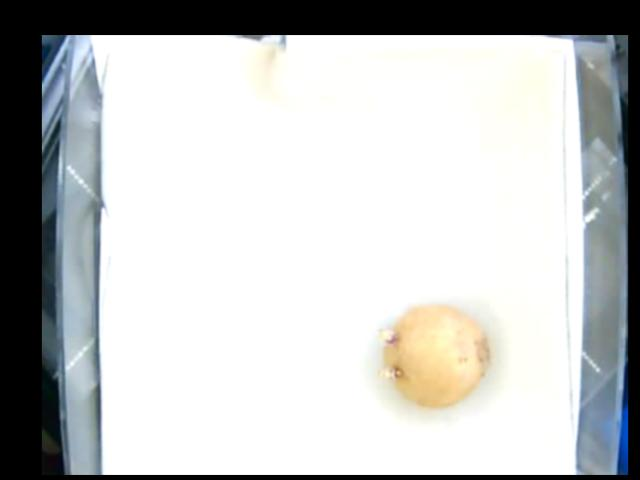Potato: (378, 304, 490, 409)
